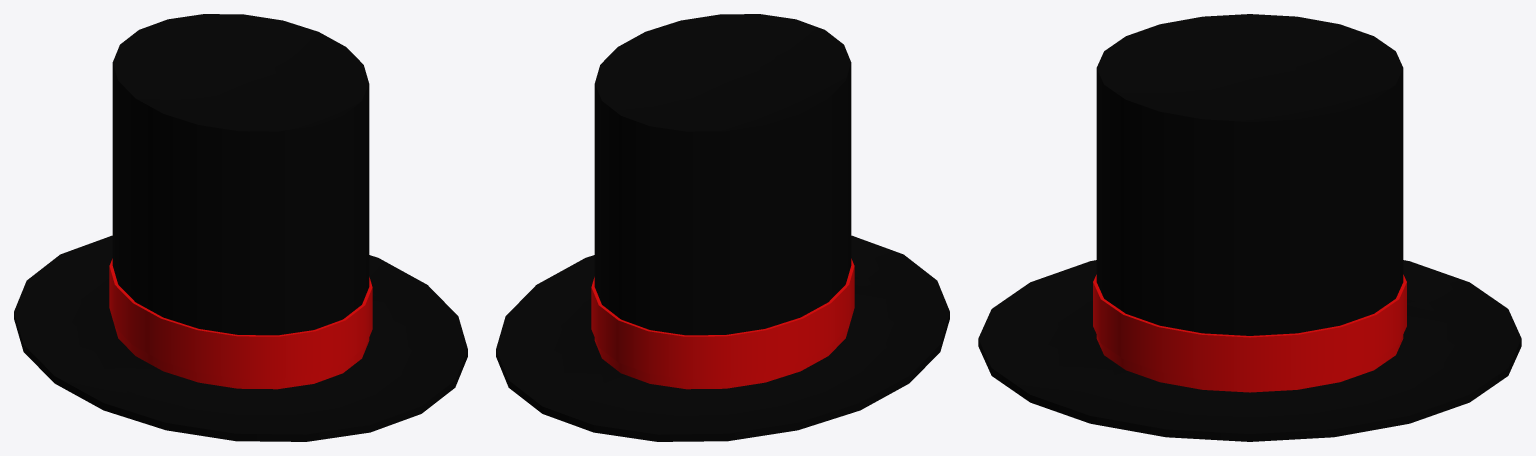
File: Top Hat.fbx
The picture shows the model from 3 angles, left to right: view 1: azimuth 30°, elevation 25°; view 2: azimuth 150°, elevation 25°; view 3: azimuth 270°, elevation 25°; orthographic projection. The views are drawn at different scales.
Parts seen in each view (by area): view 1: pCylinder1; view 2: pCylinder1; view 3: pCylinder1.
Boxes of the visible parts, x1,y1,x2,y2 form: pCylinder1: (14, 14, 467, 441); pCylinder1: (496, 14, 949, 441); pCylinder1: (978, 14, 1521, 441).
Size of the model in its own units: 8.85 by 6.23 by 10.62.
